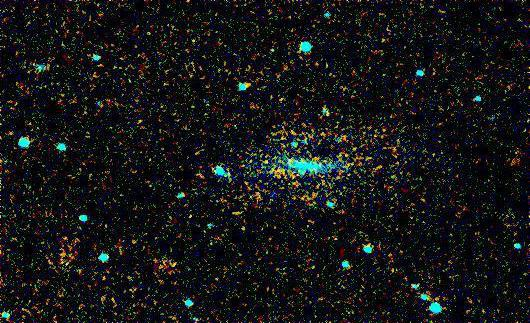star: (253, 184, 283, 214)
